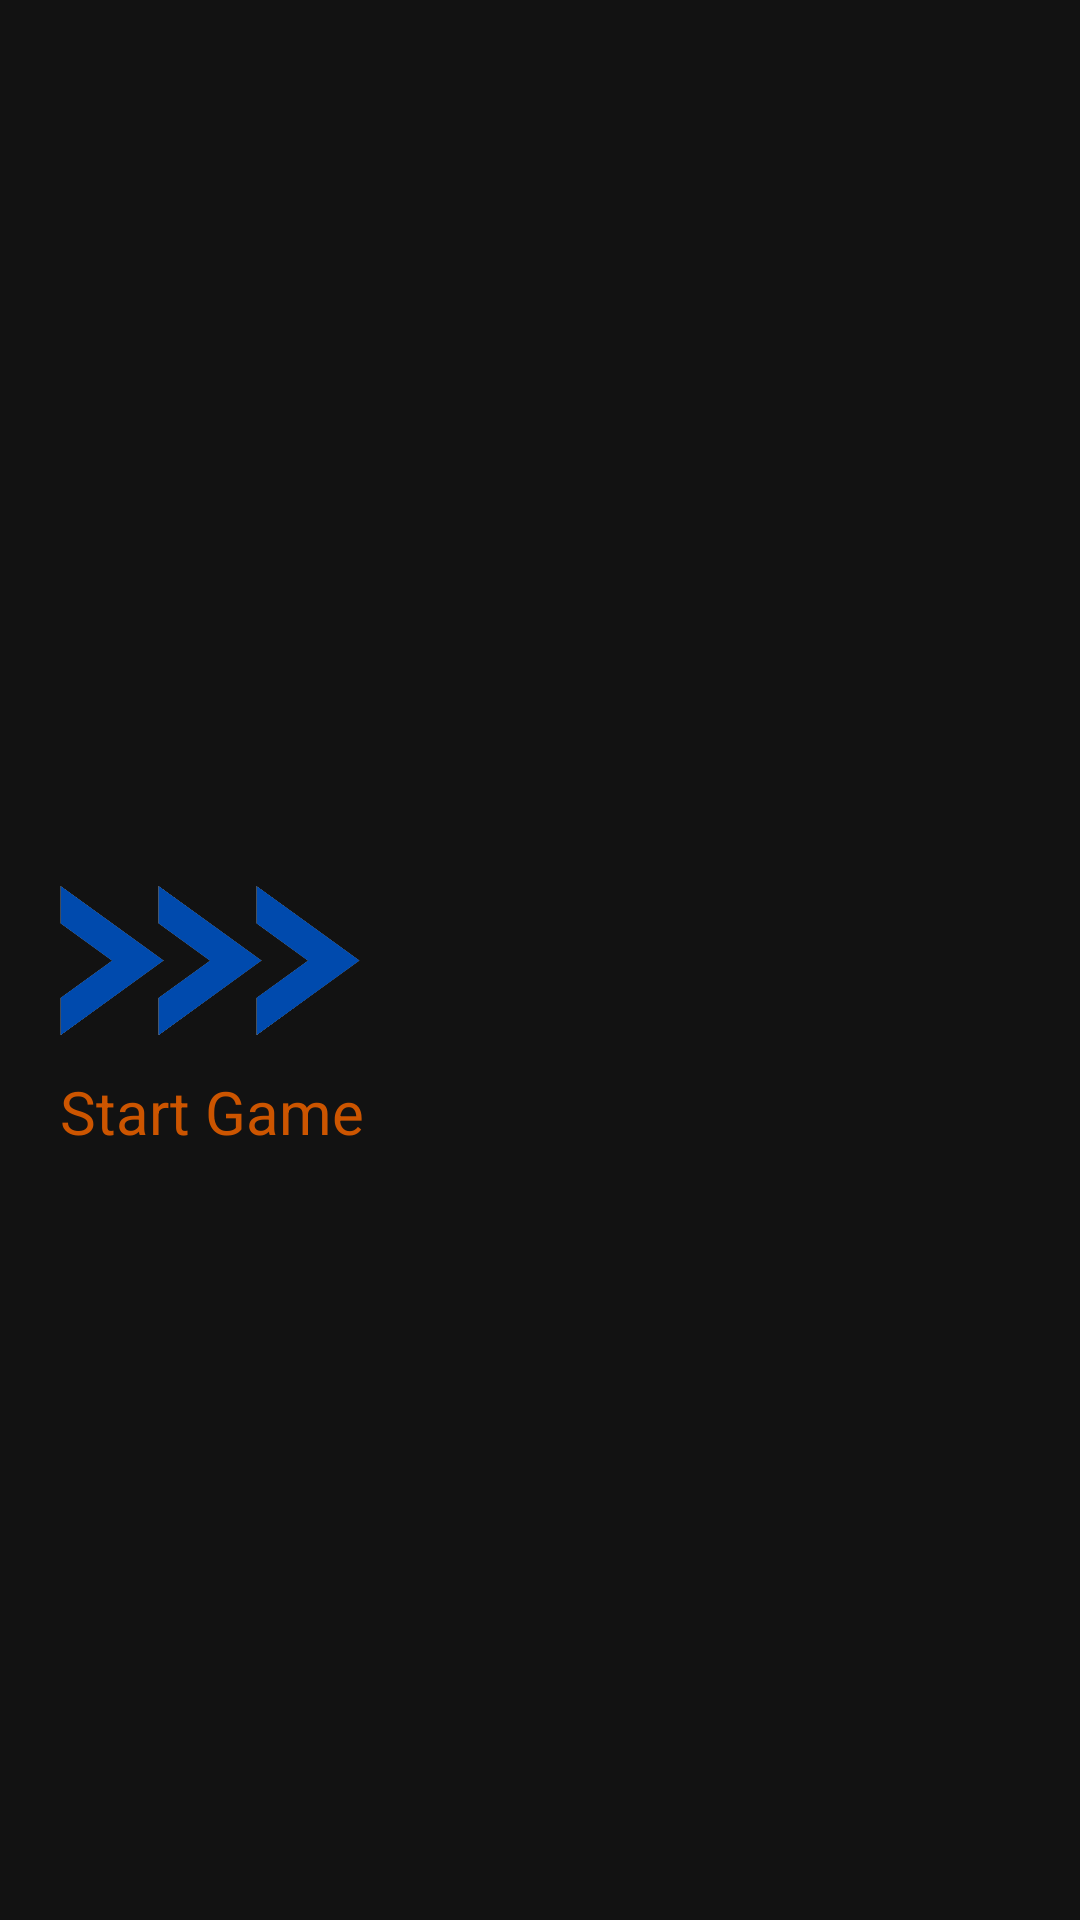

Where icons sit on this 1080 × 1920 app screen, as (x1, y1, x2, y2):
arrow: (60, 886, 359, 1035)
